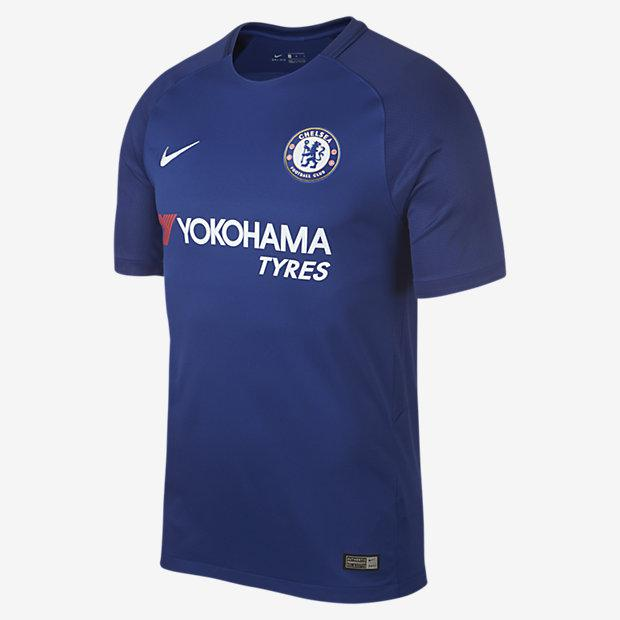teeshirt: (103, 12, 535, 620)
